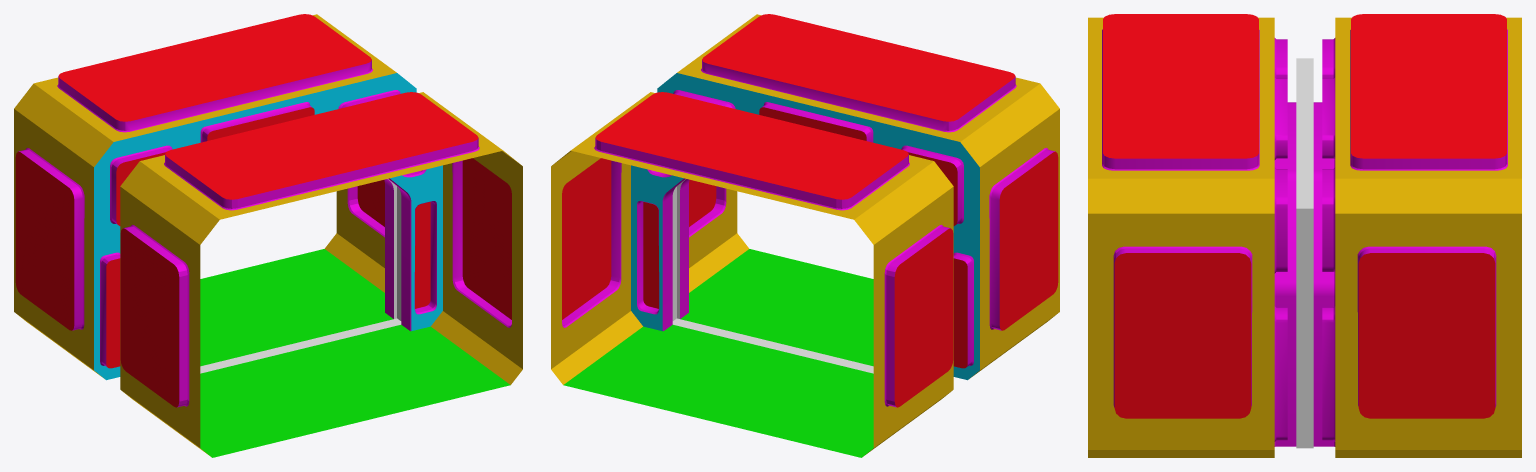
The model's file is Arch Door.fbx.
3 views of the same model, side by side, from view 1: azimuth 30°, elevation 25°; view 2: azimuth 150°, elevation 25°; view 3: azimuth 270°, elevation 25° (orthographic). The views are drawn at different scales.
Visible parts, largest first — view 1: Arch+Door; view 2: Arch+Door; view 3: Arch+Door.
Part boxes in pixels (x1,y1,x2,y2): Arch+Door: (14, 14, 522, 457); Arch+Door: (551, 14, 1059, 457); Arch+Door: (1088, 14, 1521, 457).
Size of the model in its own units: 1060 by 730 by 1000.
